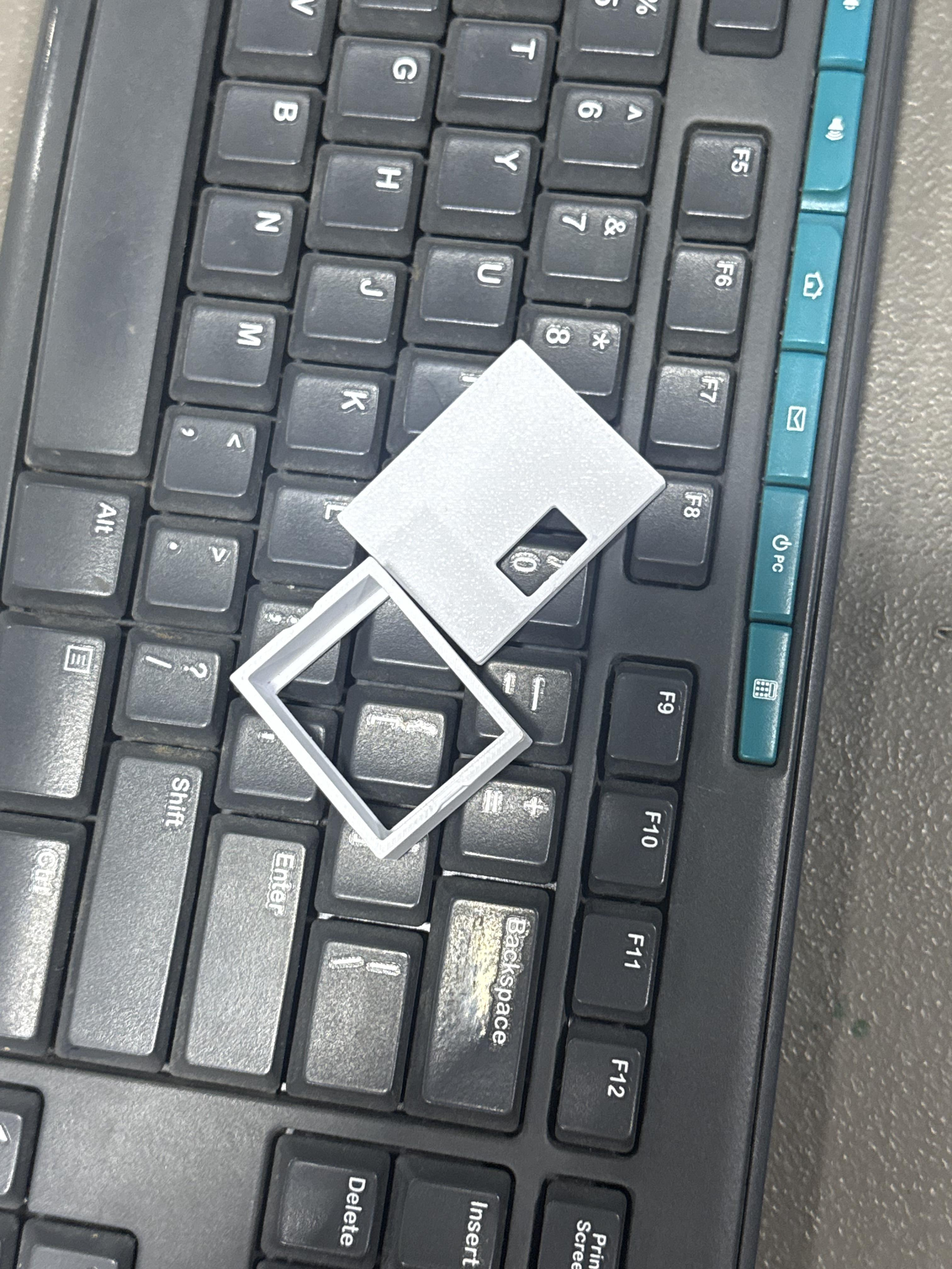enclosure: (337, 339, 667, 667), (229, 554, 534, 861)
